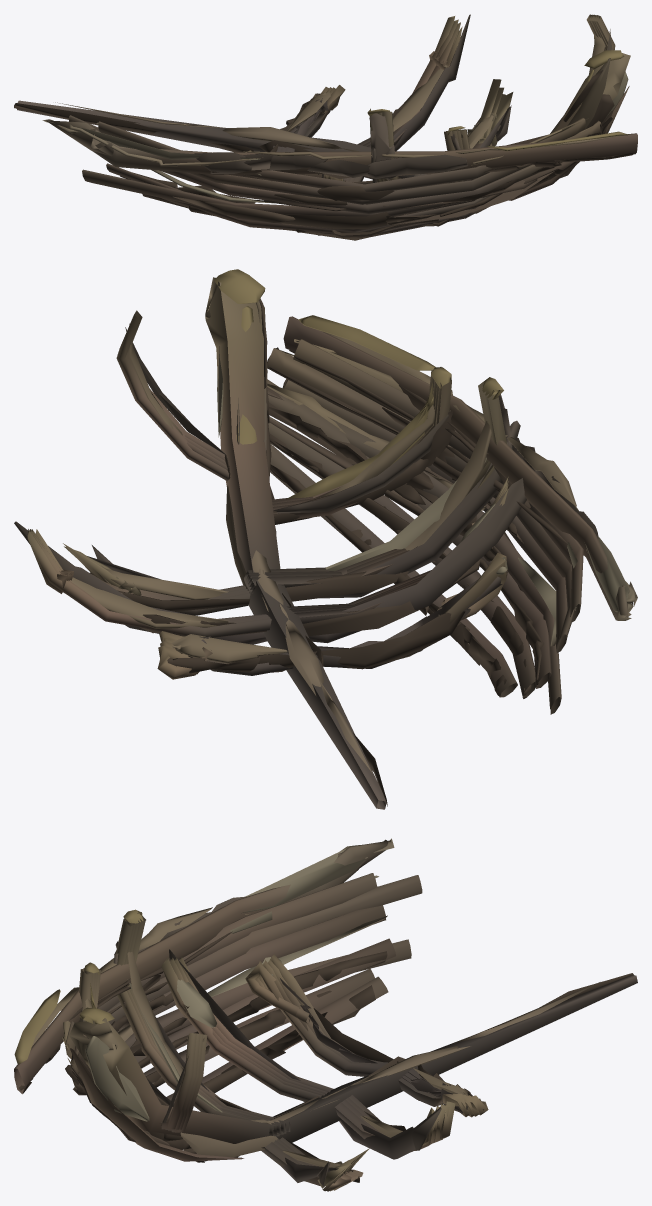
The model's file is brokenBoat_9_17_2022.fbx.
3 renders of one model, top to bottom at view 1: azimuth 30°, elevation 25°; view 2: azimuth 150°, elevation 25°; view 3: azimuth 270°, elevation 25°, orthographic. The views are drawn at different scales.
Visible parts, largest first — view 1: brokenBoat_LOD0; view 2: brokenBoat_LOD0; view 3: brokenBoat_LOD0.
Boxes of the visible parts, x1,y1,x2,y2 form: brokenBoat_LOD0: (14, 14, 637, 240); brokenBoat_LOD0: (14, 269, 637, 809); brokenBoat_LOD0: (14, 838, 637, 1191).
Size of what is drawn, in the model's own units: 128 by 44.65 by 128.
